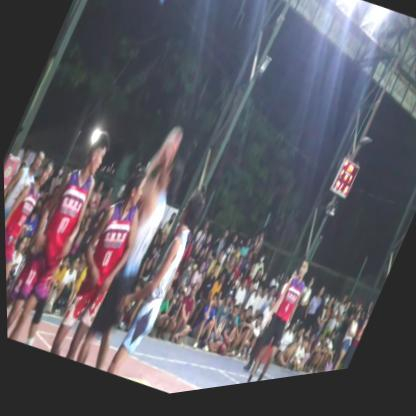basketball: (153, 124, 188, 174)
rim: (133, 0, 202, 22)
